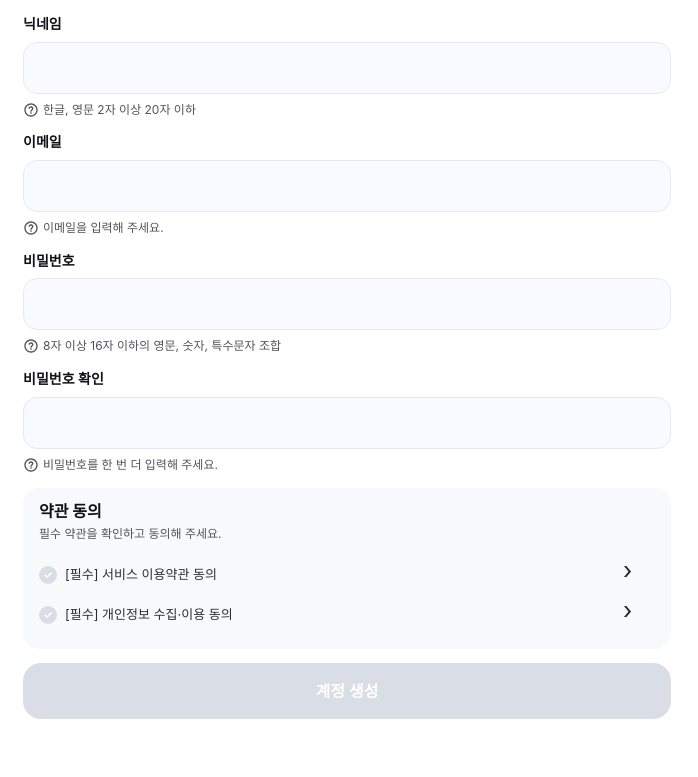
Test case: SignupView 회원가입 화면 › 두 약관을 확인하기 전에는 계정 생성 버튼을 비활성화한다
The image size is (698, 777).
Expected: the submit button is disabled, [23,663,671,719]
Step 1. Click the checkbox with class "term-row" showing "✓ [필수] 서비스 이용약관 동의 ›" → {"x": 141, "y": 574}, box [39,555,655,595]
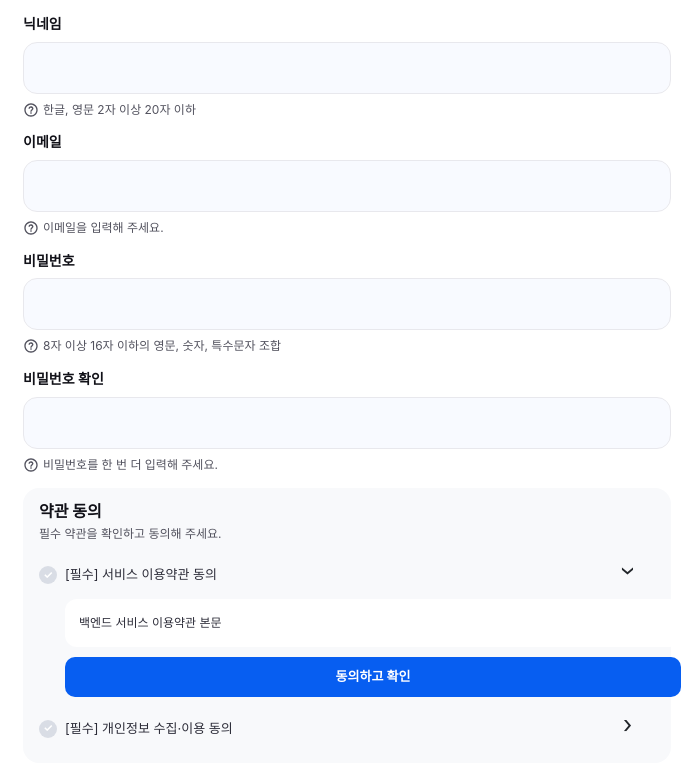
Step 2. Click the button with class "term-inline-confirm" → {"x": 373, "y": 676}, box [65,656,681,696]
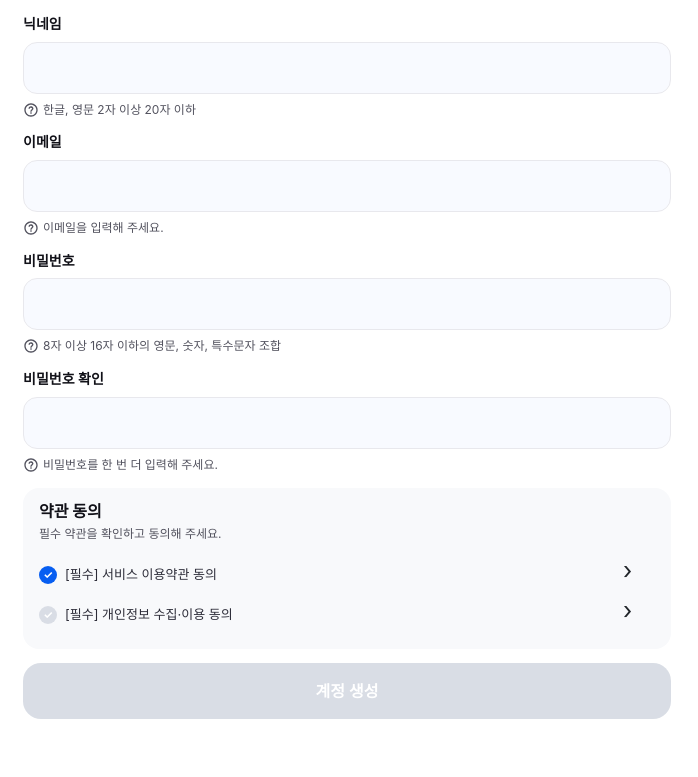
Step 3. Click the checkbox with class "term-row" showing "✓ [필수] 개인정보 수집·이용 동의 ›" → {"x": 149, "y": 614}, box [39,595,655,635]
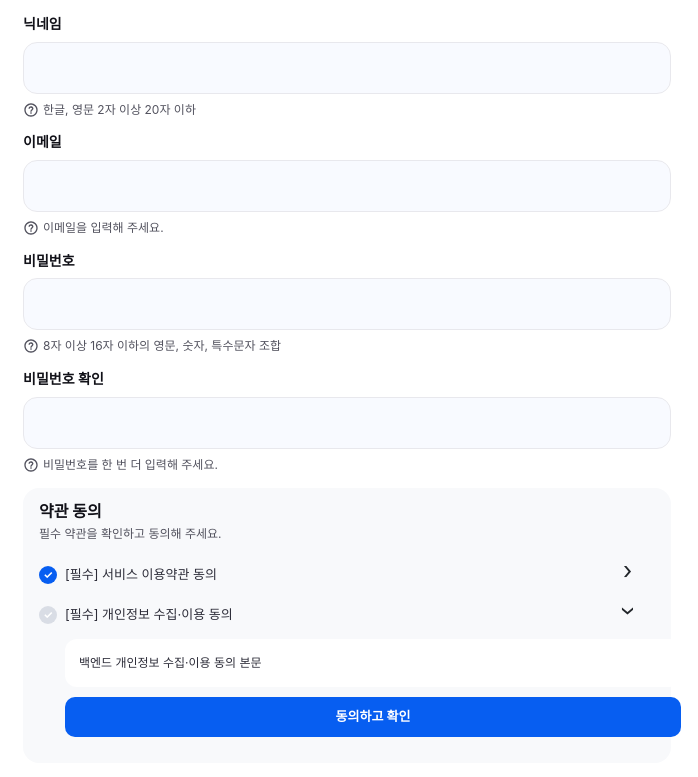
Step 4. Click the button with class "term-inline-confirm" → {"x": 373, "y": 716}, box [65,696,681,736]
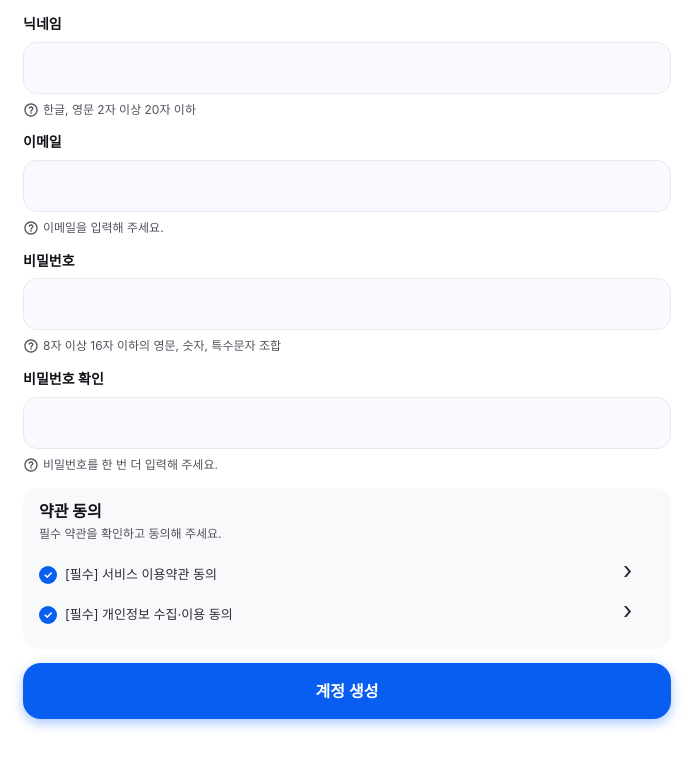
Expected: the submit button is enabled, [23,663,671,719]
